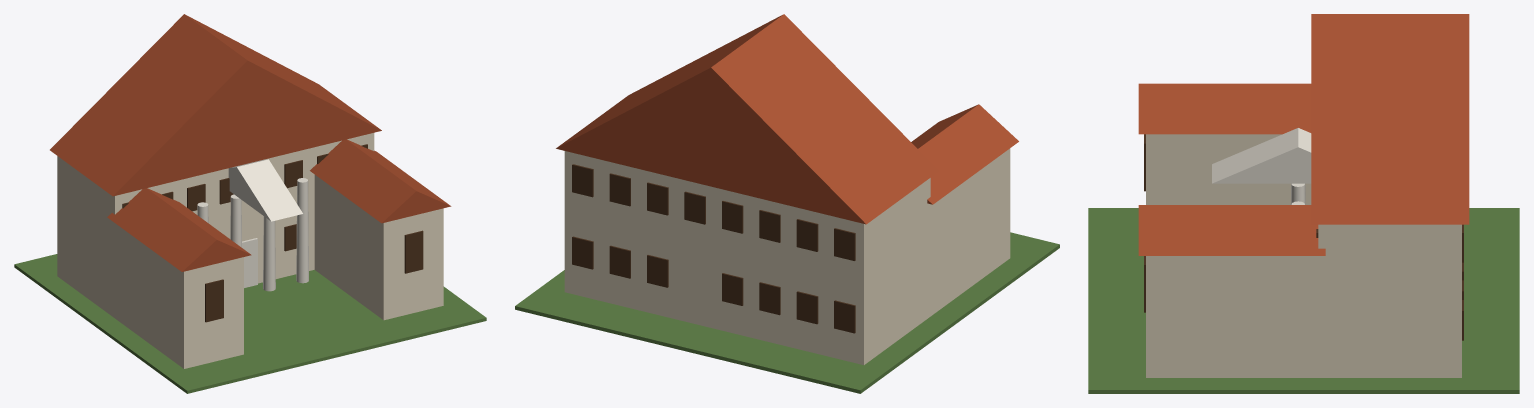
Rendered from bld_special_university_a02.glb.
3 views of the same model, side by side, from view 1: azimuth 30°, elevation 25°; view 2: azimuth 150°, elevation 25°; view 3: azimuth 270°, elevation 25° (orthographic). The views are drawn at different scales.
Visible parts, largest first — view 1: body; view 2: body; view 3: body.
Boxes of the visible parts, x1=… form: body: x1=14, y1=14, x2=486, y2=393; body: x1=515, y1=14, x2=1059, y2=393; body: x1=1088, y1=14, x2=1519, y2=393.
Size of what is drawn, in the model's own units: 15 by 11.09 by 15.
